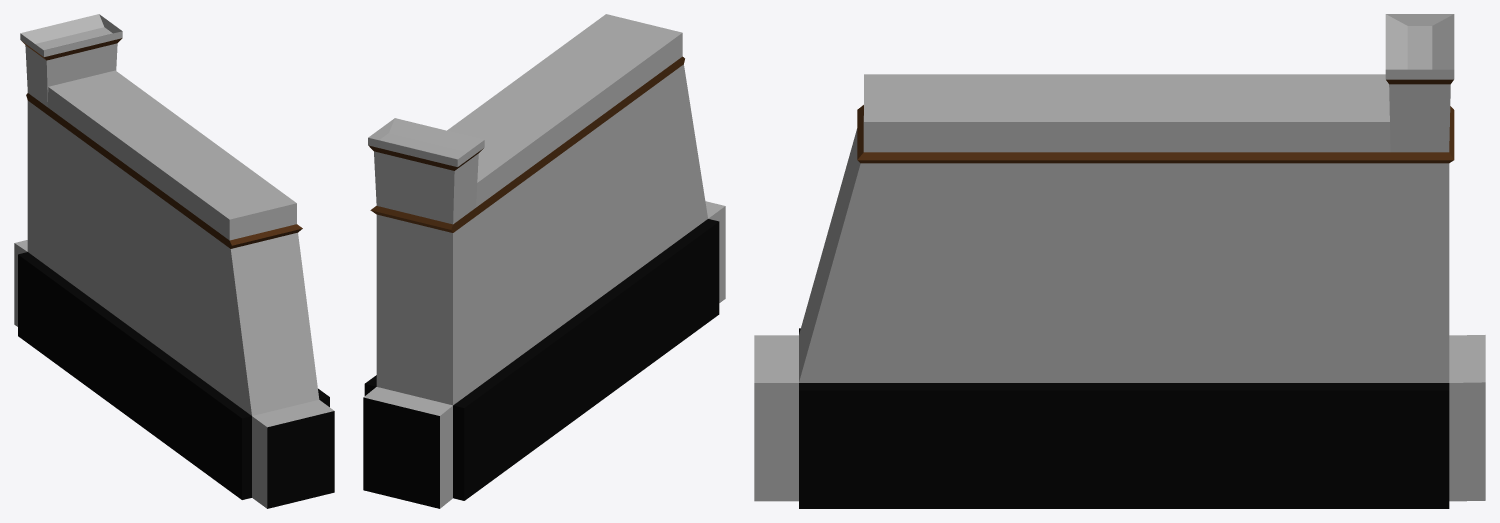
File: placeholder_wall.fbx
3 renders of one model, left to right at view 1: azimuth 30°, elevation 25°; view 2: azimuth 150°, elevation 25°; view 3: azimuth 270°, elevation 25°, orthographic. The views are drawn at different scales.
Parts seen in each view (by area): view 1: Cube; view 2: Cube; view 3: Cube.
Boxes of the visible parts, box(x1,y1,x2,y2) form: Cube: box(14, 14, 334, 508); Cube: box(363, 14, 725, 508); Cube: box(754, 14, 1485, 508).
Size of the model in its own units: 166 by 542 by 823.
